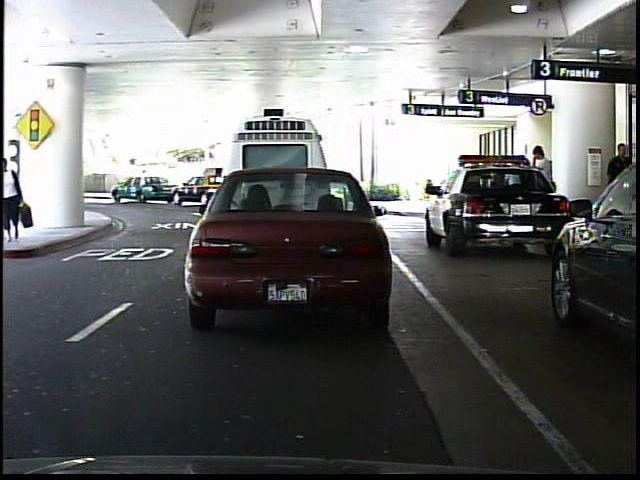person: (598, 136, 632, 233), (527, 140, 561, 237), (1, 154, 28, 244), (136, 164, 154, 198)
